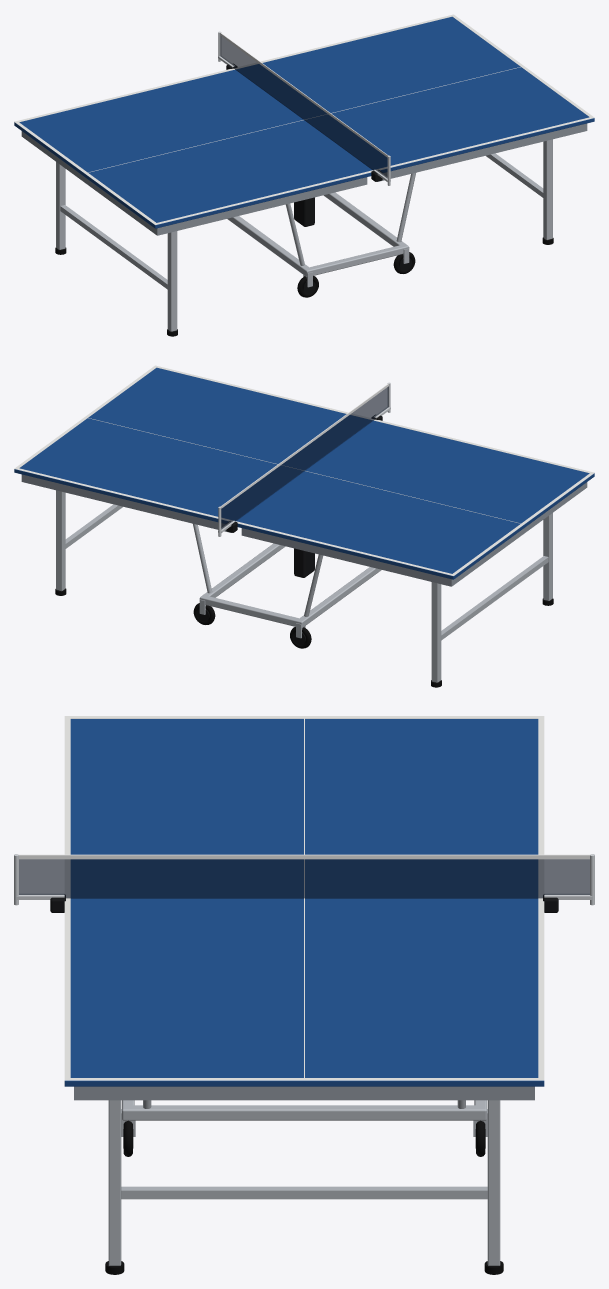
Rendered from platte-indoor-blau.glb.
3 views of the same model, one above another, from view 1: azimuth 30°, elevation 25°; view 2: azimuth 150°, elevation 25°; view 3: azimuth 270°, elevation 25° (orthographic). The views are drawn at different scales.
Visible parts, largest first — view 1: Platte (×2), Netz, Beine (×2), Hälfte A, Fahrwerk, Hälfte B, Tischtennisplatte; view 2: Platte (×2), Netz, Beine (×2), Hälfte A, Fahrwerk, Hälfte B, Tischtennisplatte; view 3: Platte (×2), Netz, Hälfte B, Beine, Fahrwerk, Hälfte A.
Boxes of the visible parts, <box> form: Platte (×2): <box>14,16,594,228</box>; Netz: <box>218,31,390,185</box>; Beine (×2): <box>55,139,553,336</box>; Hälfte A: <box>14,68,373,235</box>; Fahrwerk: <box>227,192,415,297</box>; Hälfte B: <box>235,14,594,181</box>; Tischtennisplatte: <box>285,173,415,265</box>; Platte (×2): <box>14,367,594,579</box>; Netz: <box>218,382,390,536</box>; Beine (×2): <box>55,490,553,687</box>; Hälfte A: <box>235,419,594,586</box>; Fahrwerk: <box>193,543,381,648</box>; Hälfte B: <box>14,365,373,532</box>; Tischtennisplatte: <box>193,524,323,616</box>; Platte (×2): <box>64,719,544,1086</box>; Netz: <box>14,854,594,912</box>; Hälfte B: <box>64,898,544,1100</box>; Beine: <box>105,1100,503,1274</box>; Fahrwerk: <box>121,1100,487,1156</box>; Hälfte A: <box>64,716,544,897</box>.
Size of the model in its own units: 2.74 by 0.9125 by 1.85.
